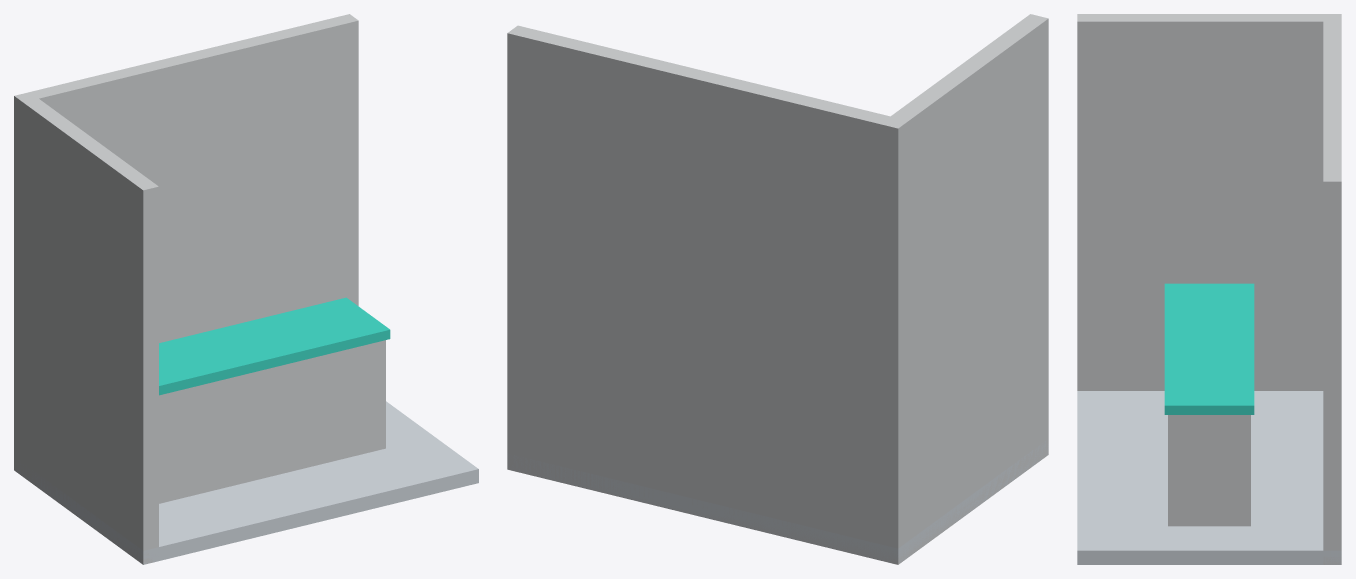
The picture shows the model from 3 angles, left to right: view 1: azimuth 30°, elevation 25°; view 2: azimuth 150°, elevation 25°; view 3: azimuth 270°, elevation 25°; orthographic projection. The views are drawn at different scales.
Parts seen in each view (by area): view 1: Exhibition Booth Concept; view 2: Exhibition Booth Concept; view 3: Exhibition Booth Concept.
Part boxes in pixels (x1,y1,x2,y2): Exhibition Booth Concept: (14, 14, 478, 564); Exhibition Booth Concept: (507, 14, 1048, 564); Exhibition Booth Concept: (1077, 14, 1341, 564).
Size of the model in its own units: 3 by 3.2 by 2.
